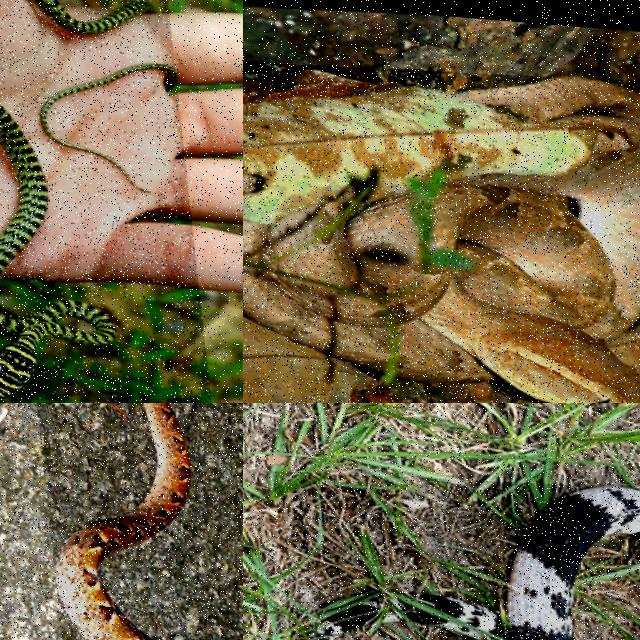Calloselasma rhodostoma: (392, 77, 639, 402), (54, 403, 189, 639)
Chrysopelea ornata: (41, 65, 175, 182)
Naja siamensis: (505, 487, 639, 639)
snake: (392, 77, 639, 402), (54, 403, 189, 639), (505, 487, 639, 639), (41, 65, 175, 182)
